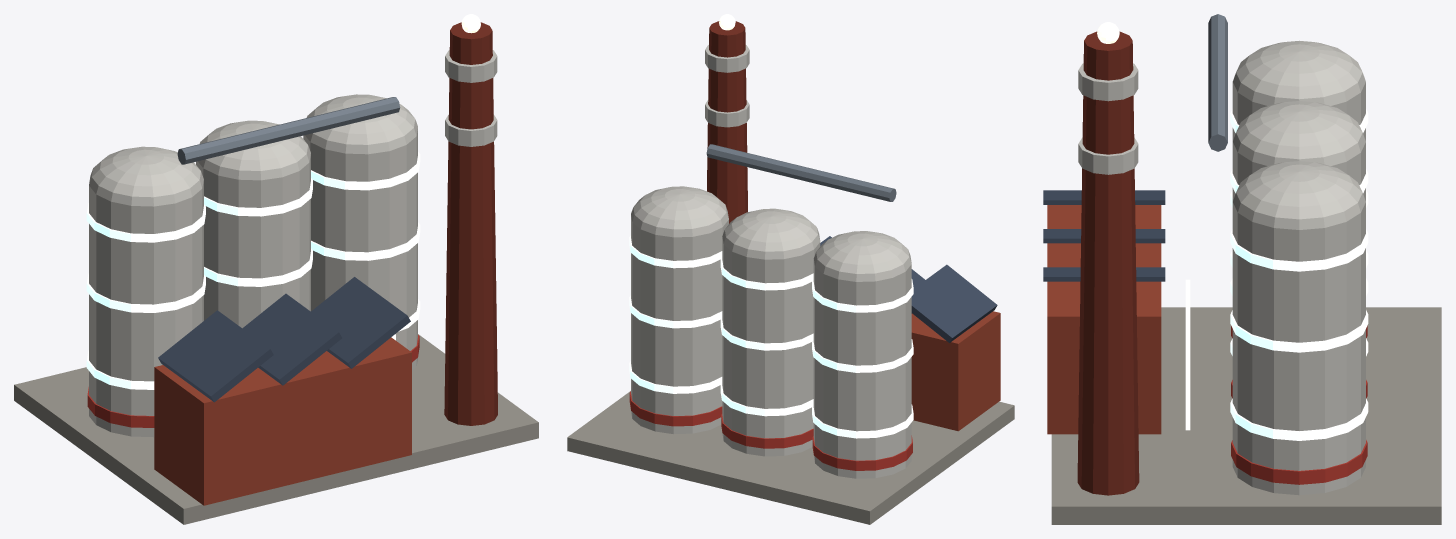
The model's file is dynamodb-refinery.glb.
3 renders of one model, left to right at view 1: azimuth 30°, elevation 25°; view 2: azimuth 150°, elevation 25°; view 3: azimuth 270°, elevation 25°, orthographic. The views are drawn at different scales.
Visible parts, largest first — view 1: cw_paint, cw_neon; view 2: cw_paint, cw_neon; view 3: cw_paint, cw_neon, cw_glow.
Boxes of the visible parts, bbox=[...] form: cw_paint: bbox=[14, 22, 538, 524]; cw_neon: bbox=[86, 152, 420, 389]; cw_paint: bbox=[567, 21, 1014, 524]; cw_neon: bbox=[629, 235, 913, 438]; cw_paint: bbox=[1043, 14, 1441, 524]; cw_neon: bbox=[1230, 109, 1368, 440]; cw_glow: bbox=[1097, 22, 1190, 430].
Size of the model in its own units: 5.8 by 6.49 by 4.9.
